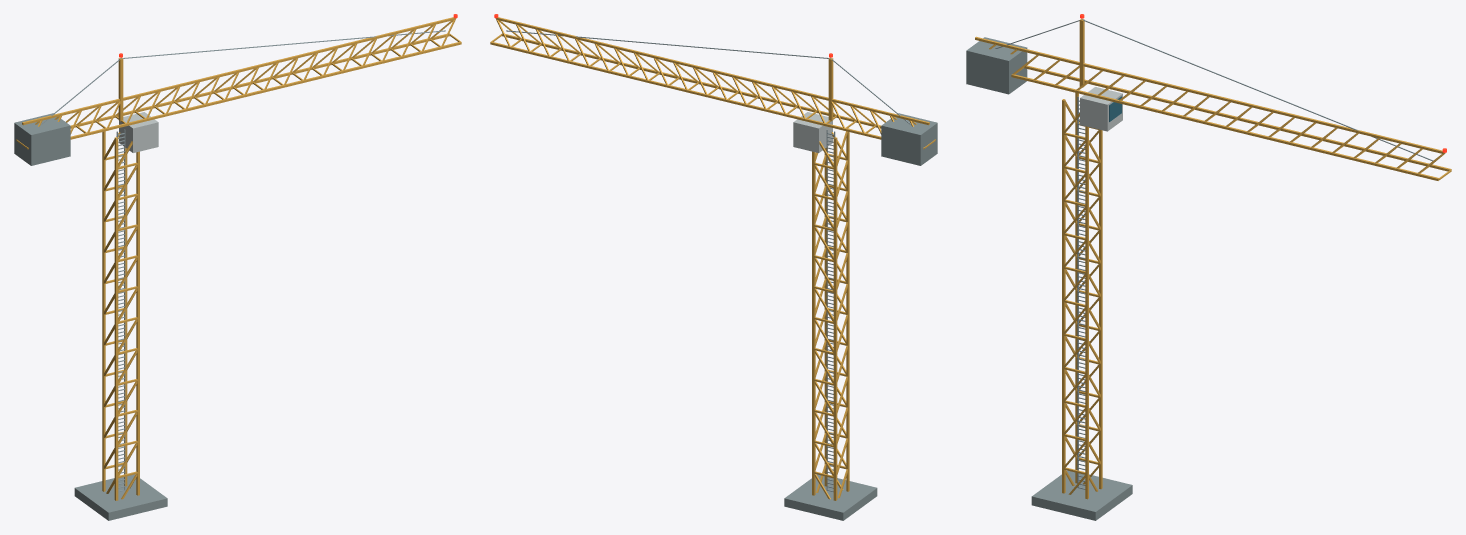
Rendered from tower-crane.glb.
3 views of the same model, side by side, from view 1: azimuth 30°, elevation 25°; view 2: azimuth 150°, elevation 25°; view 3: azimuth 330°, elevation 25° (orthographic). The views are drawn at different scales.
Visible parts, largest first — view 1: Jib, Mast; view 2: Mast, Jib; view 3: Mast, Jib.
Part boxes in pixels (x1=…): Jib: x1=14, y1=14, x2=461, y2=165; Mast: x1=74, y1=128, x2=167, y2=520; Mast: x1=784, y1=128, x2=877, y2=520; Jib: x1=490, y1=14, x2=937, y2=165; Mast: x1=1031, y1=92, x2=1132, y2=520; Jib: x1=966, y1=14, x2=1451, y2=180.
Size of the model in its own units: 44.24 by 43.51 by 6.
